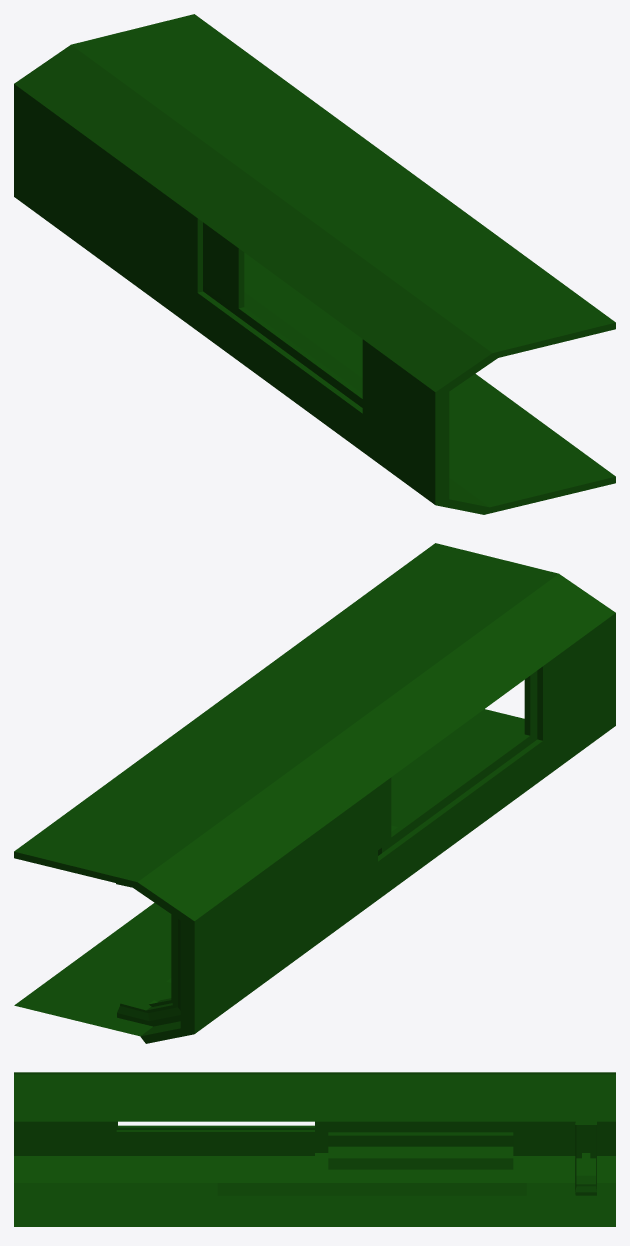
Rendered from  schifi corridor.glb.
3 views of the same model, one above another, from view 1: azimuth 30°, elevation 25°; view 2: azimuth 150°, elevation 25°; view 3: azimuth 270°, elevation 25° (orthographic). The views are drawn at different scales.
Parts seen in each view (by area): view 1: Cube; view 2: Cube; view 3: Cube.
Boxes of the visible parts, left/top/right/bottom form: Cube: left=14, top=14, right=615, bottom=514; Cube: left=14, top=543, right=615, bottom=1043; Cube: left=14, top=1072, right=615, bottom=1226.
Bounding box in the file's own units: 2.17 × 1.85 × 8.77.
Materials: 1 (1 with a texture image).
